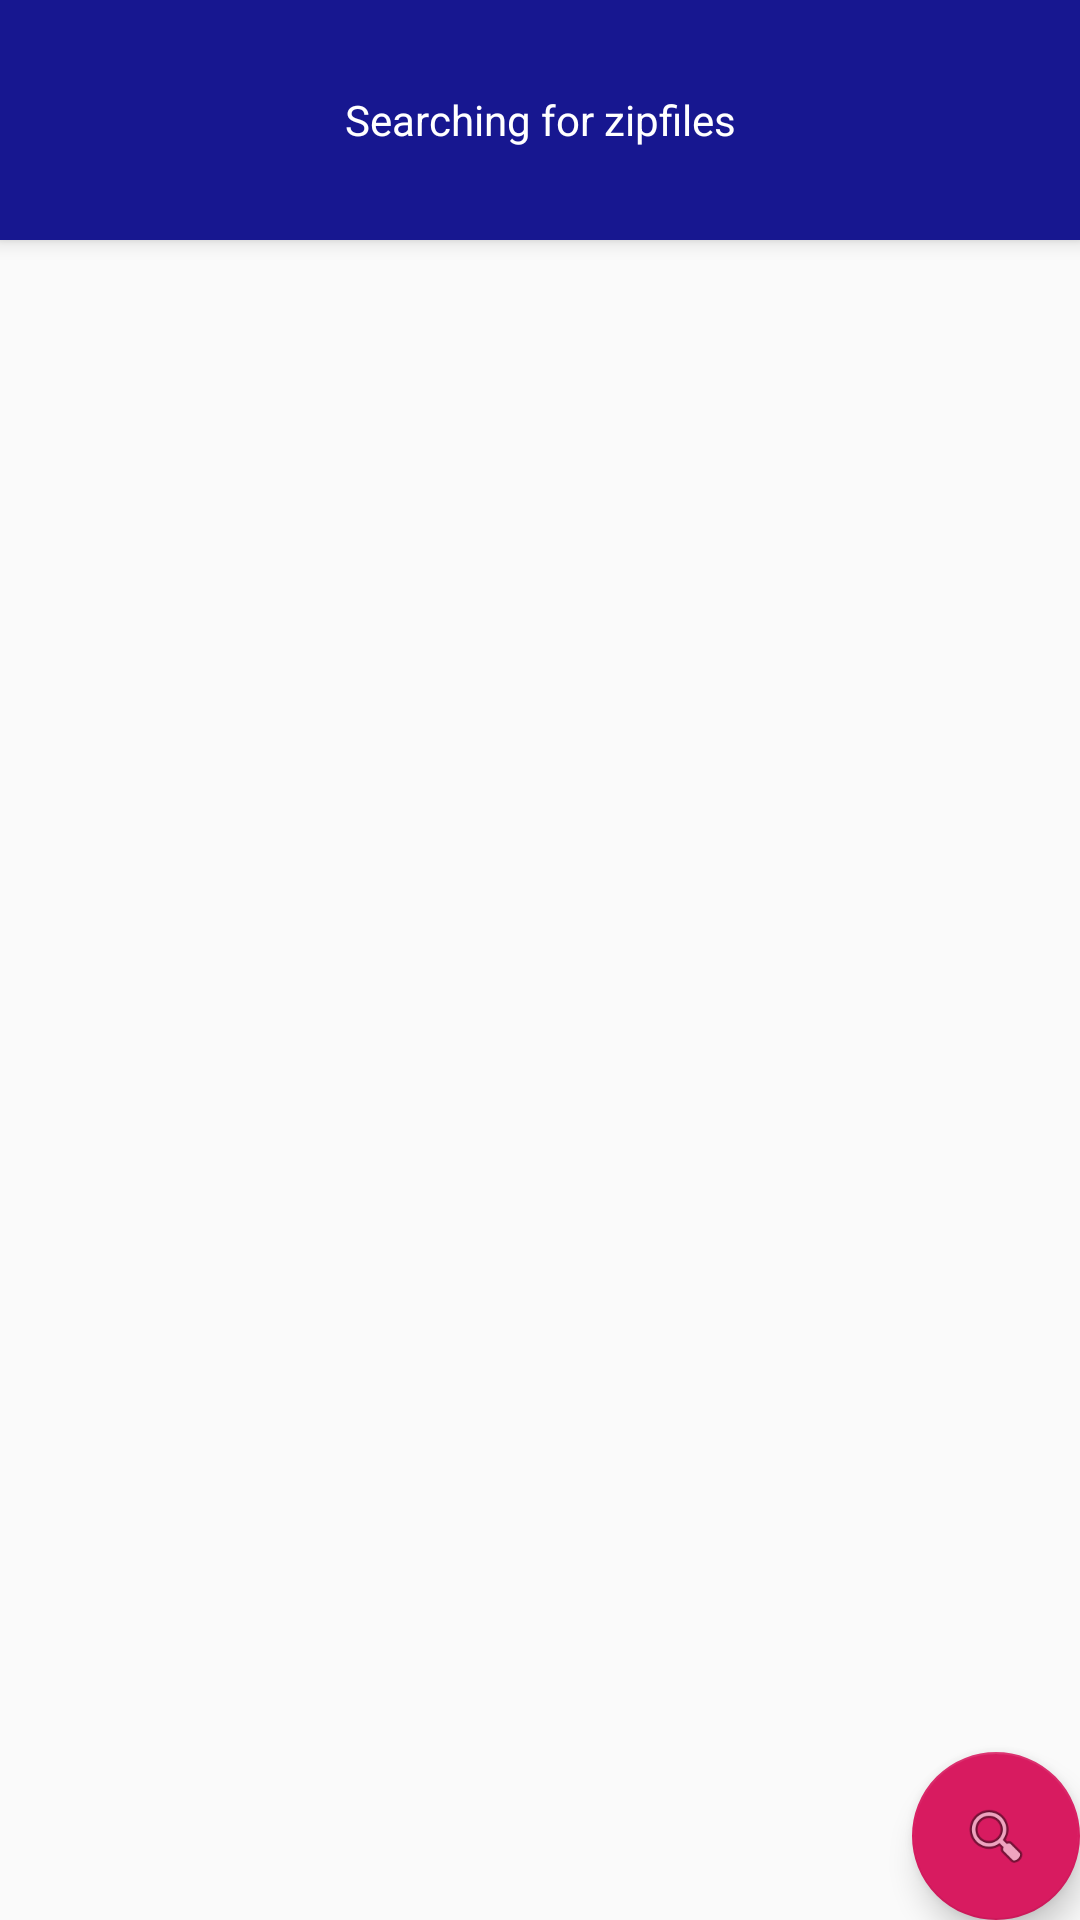

Icon bounding boxes for this 1080px x 1920px phone screenshot, format bbox=(x1, y1, x2, y2):
search: bbox=(912, 1752, 1080, 1920)
